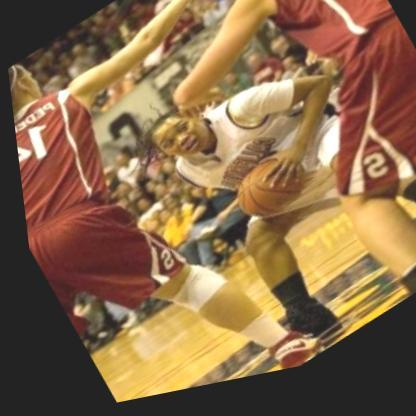basketball: (216, 148, 313, 244)
